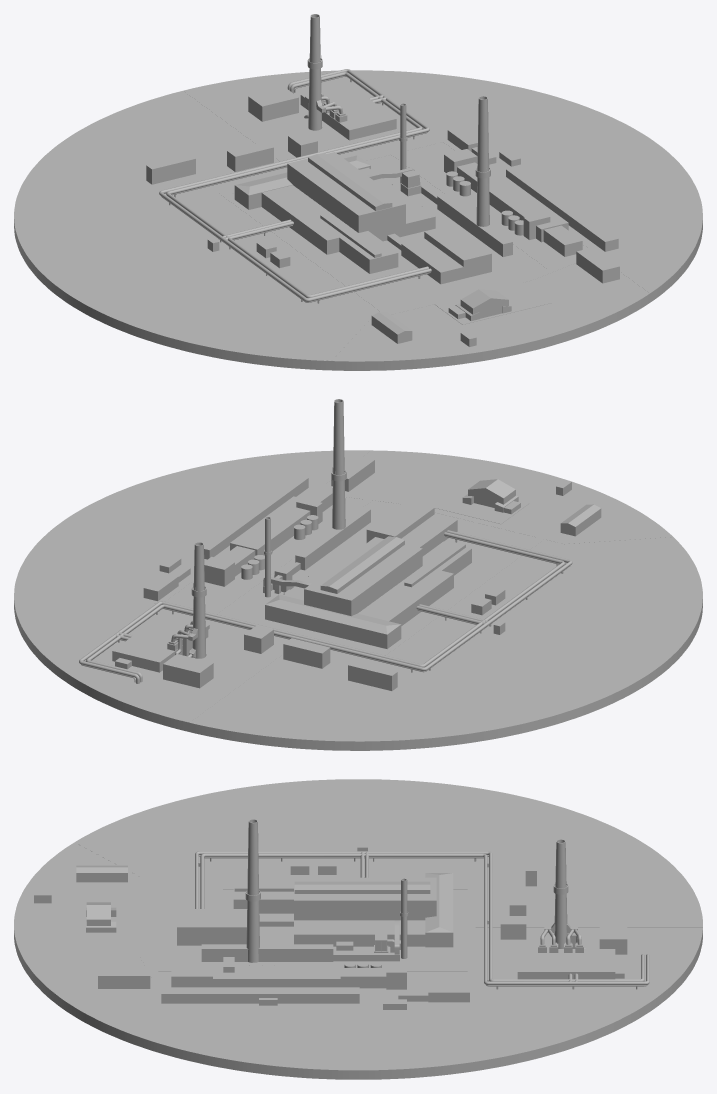
Rendered from plant1.glb.
The picture shows the model from 3 angles, top to bottom: view 1: azimuth 30°, elevation 25°; view 2: azimuth 150°, elevation 25°; view 3: azimuth 270°, elevation 25°; orthographic projection.
Parts seen in each view (by area): view 1: ground, extra_buildings, tour_building_1, road, pipes_grey, tour_building_4, tour_building_2, tour_building_3, windows, chimney_3, chimney_1, pipes_yellow; view 2: ground, tour_building_1, extra_buildings, pipes_grey, road, tour_building_4, tour_building_2, tour_building_3, windows, chimney_3, chimney_1, pipes_yellow; view 3: ground, extra_buildings, tour_building_1, tour_building_4, road, pipes_grey, tour_building_2, tour_building_3, windows, chimney_3, chimney_1, pipes_yellow (+1 smaller).
Boxes of the visible parts, <box> form: ground: <box>14,70,702,370</box>; extra_buildings: <box>146,87,619,343</box>; tour_building_1: <box>227,141,435,273</box>; road: <box>183,89,654,360</box>; pipes_grey: <box>159,69,431,301</box>; tour_building_4: <box>444,149,582,256</box>; tour_building_2: <box>300,83,396,140</box>; tour_building_3: <box>434,282,551,324</box>; windows: <box>228,97,581,270</box>; chimney_3: <box>476,96,489,226</box>; chimney_1: <box>308,14,322,130</box>; pipes_yellow: <box>161,76,430,302</box>; ground: <box>14,450,702,750</box>; tour_building_1: <box>263,536,471,668</box>; extra_buildings: <box>143,455,601,690</box>; pipes_grey: <box>79,530,572,683</box>; road: <box>153,450,672,722</box>; tour_building_4: <box>204,484,332,586</box>; tour_building_2: <box>112,615,209,672</box>; tour_building_3: <box>412,479,529,523</box>; windows: <box>115,494,499,669</box>; chimney_3: <box>332,399,345,529</box>; chimney_1: <box>192,542,206,658</box>; pipes_yellow: <box>81,536,570,682</box>; ground: <box>14,779,702,1079</box>; extra_buildings: <box>76,844,627,1009</box>; tour_building_1: <box>233,873,526,954</box>; tour_building_4: <box>171,957,406,989</box>; road: <box>54,839,702,996</box>; pipes_grey: <box>195,851,649,985</box>; tour_building_2: <box>517,923,624,979</box>; tour_building_3: <box>83,902,140,951</box>; windows: <box>176,902,611,987</box>; chimney_3: <box>246,819,259,962</box>; chimney_1: <box>554,839,567,948</box>; pipes_yellow: <box>198,855,647,986</box>.
Size of the model in its own units: 180 by 42.63 by 180.
6 materials, 6 textured.
